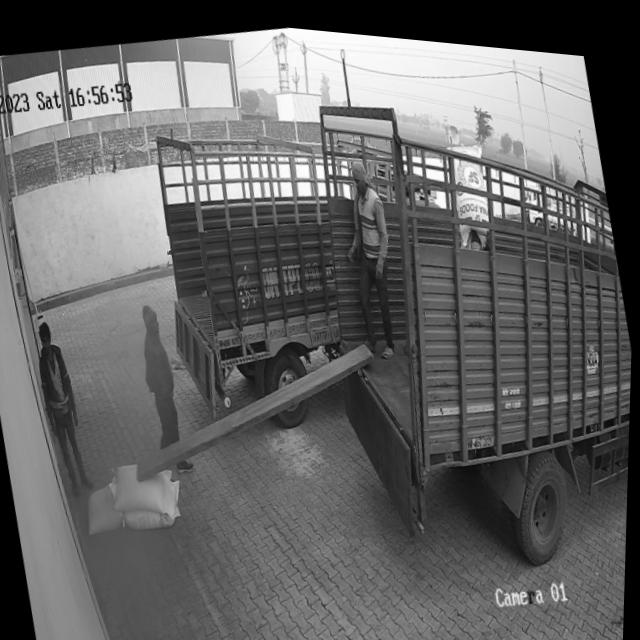sack: (443, 129, 503, 243), (109, 450, 181, 518), (118, 470, 190, 533), (82, 477, 130, 536)
